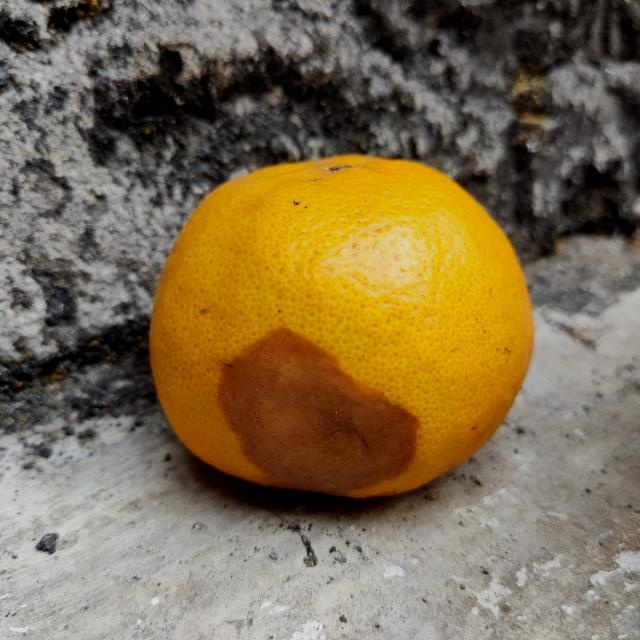agrume: (149, 152, 535, 500)
